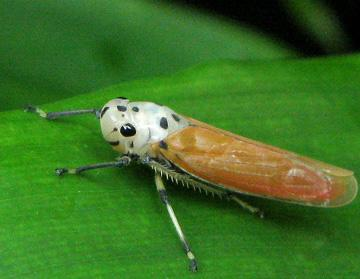Cicadellidae: (24, 96, 358, 273)
